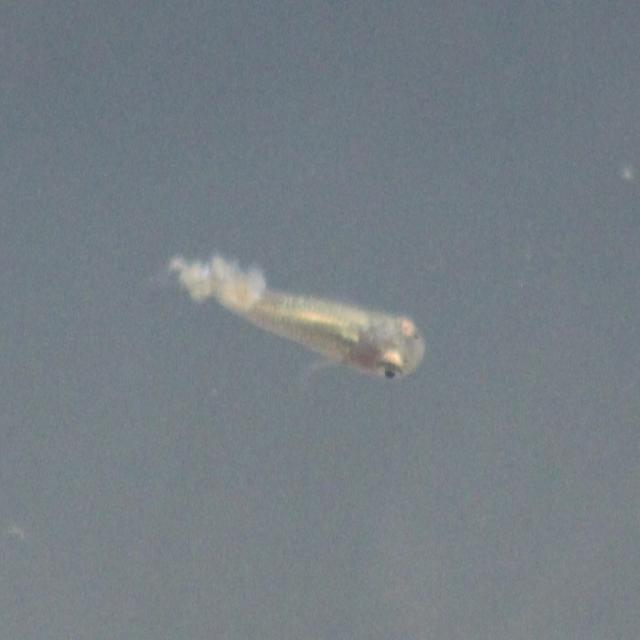Sivrisinek Baligi: (167, 250, 426, 383)
